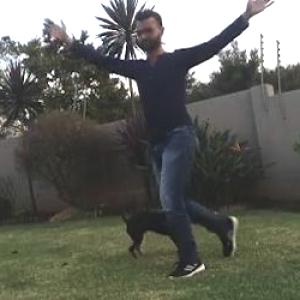takeoff: (100, 0, 278, 243)
